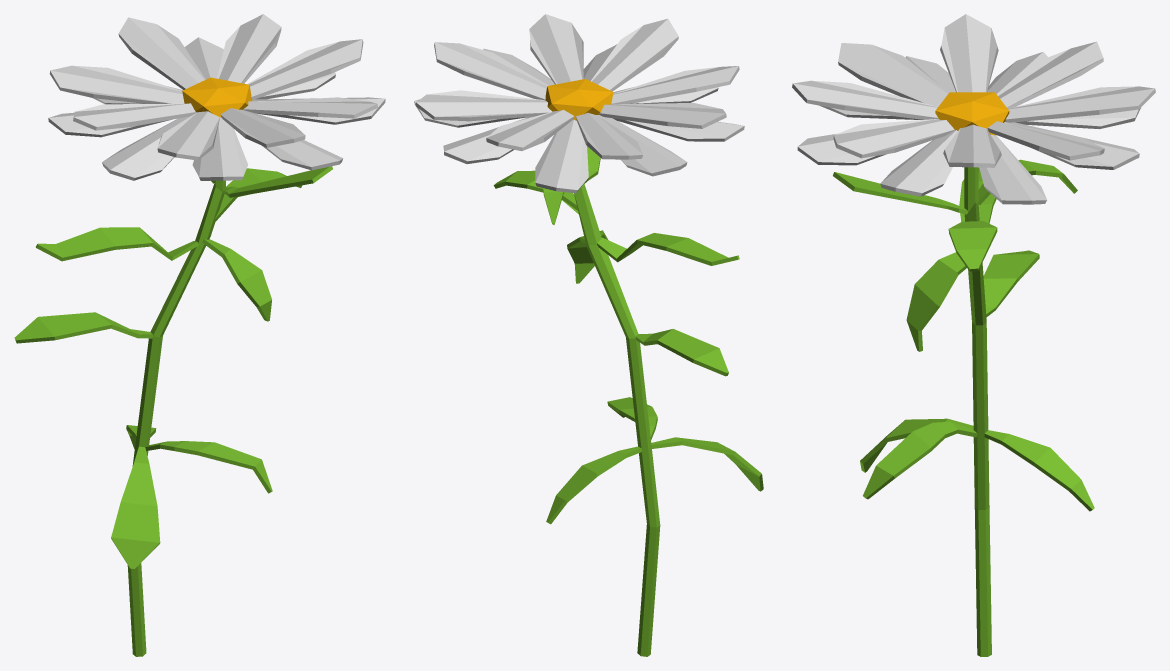
Rendered from Flower03_V2.fbx.
The picture shows the model from 3 angles, left to right: view 1: azimuth 30°, elevation 25°; view 2: azimuth 150°, elevation 25°; view 3: azimuth 270°, elevation 25°; orthographic projection. The views are drawn at different scales.
Visible parts, largest first — view 1: margarita flower.001; view 2: margarita flower.001; view 3: margarita flower.001.
Boxes of the visible parts, <box> form: margarita flower.001: <box>14,14,385,656</box>; margarita flower.001: <box>414,14,763,656</box>; margarita flower.001: <box>792,14,1155,656</box>.
Size of the model in its own units: 26.45 by 44.19 by 24.02.
